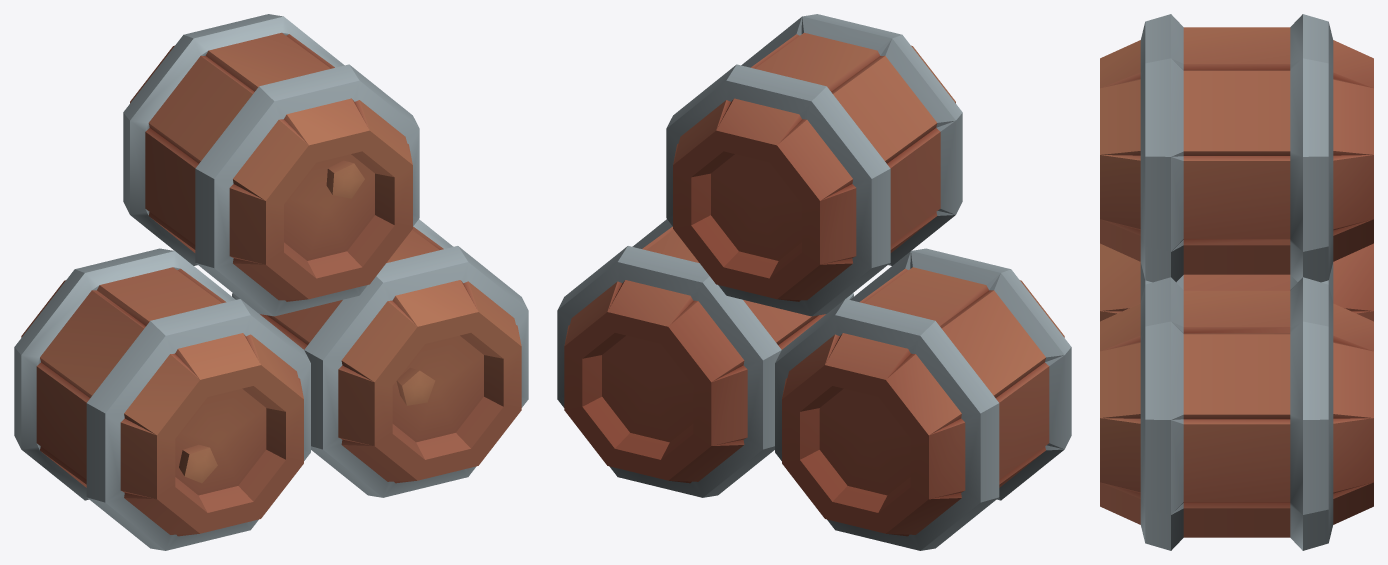
The model's file is cc0-barrel-stack-lod0.glb.
3 renders of one model, left to right at view 1: azimuth 30°, elevation 25°; view 2: azimuth 150°, elevation 25°; view 3: azimuth 270°, elevation 25°, orthographic.
Parts seen in each view (by area): view 1: part_0; view 2: part_0; view 3: part_0.
Part boxes in pixels (left/top/right/bottom): part_0: left=14, top=14, right=528, bottom=550; part_0: left=557, top=14, right=1071, bottom=550; part_0: left=1100, top=14, right=1373, bottom=550.
Bounding box in the file's own units: 1.85 × 1.77 × 1.
1 material, 1 textured.
